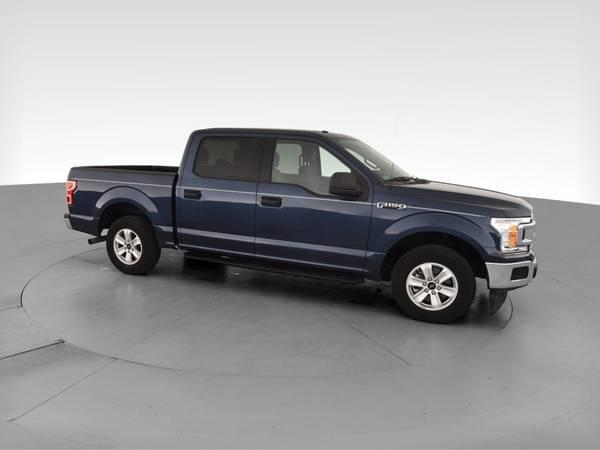Front_Bumper: (482, 253, 539, 298)
Front_Fender: (362, 189, 504, 284)
Front_Right_Door: (254, 183, 373, 278)
Front_Right_Window: (261, 133, 372, 196)
Front_Windshield: (337, 139, 426, 185)
Hood: (381, 180, 532, 219)
Rear_Fender: (66, 167, 177, 248)
Rear_Right_Door: (176, 174, 259, 260)
Rear_Right_Window: (194, 135, 267, 181)
Right_Headlight: (493, 217, 535, 258)
Roof: (179, 125, 388, 187)
Wheel: (388, 246, 476, 323), (106, 216, 161, 274)
